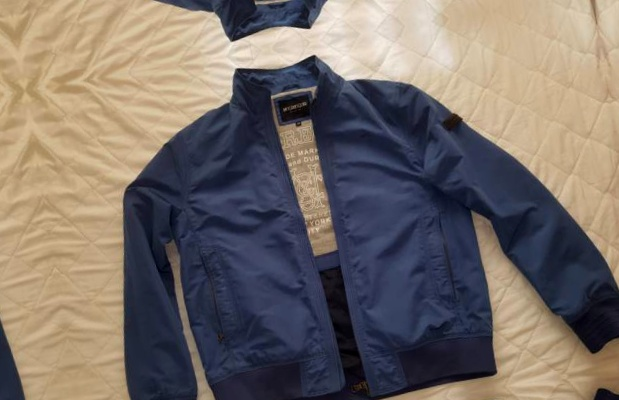Blazer: (62, 16, 619, 400), (0, 0, 574, 65), (0, 116, 50, 400), (123, 379, 619, 400), (610, 0, 619, 345)
